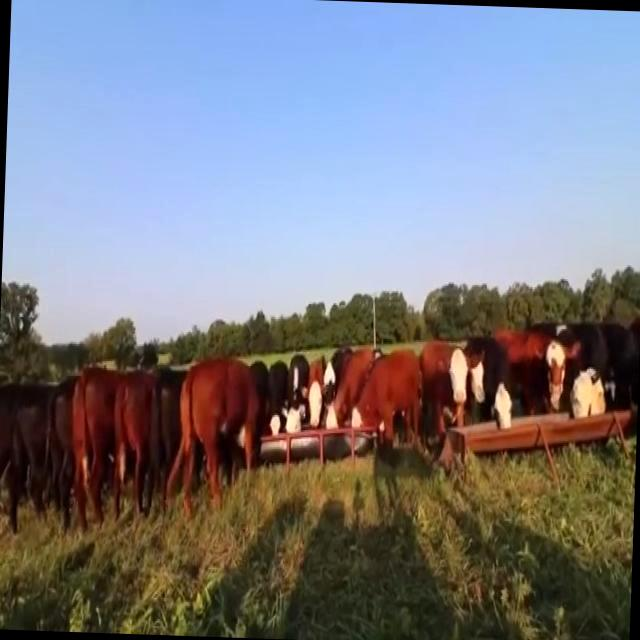COW: (325, 329, 564, 445), (164, 356, 274, 512), (72, 367, 157, 529)
